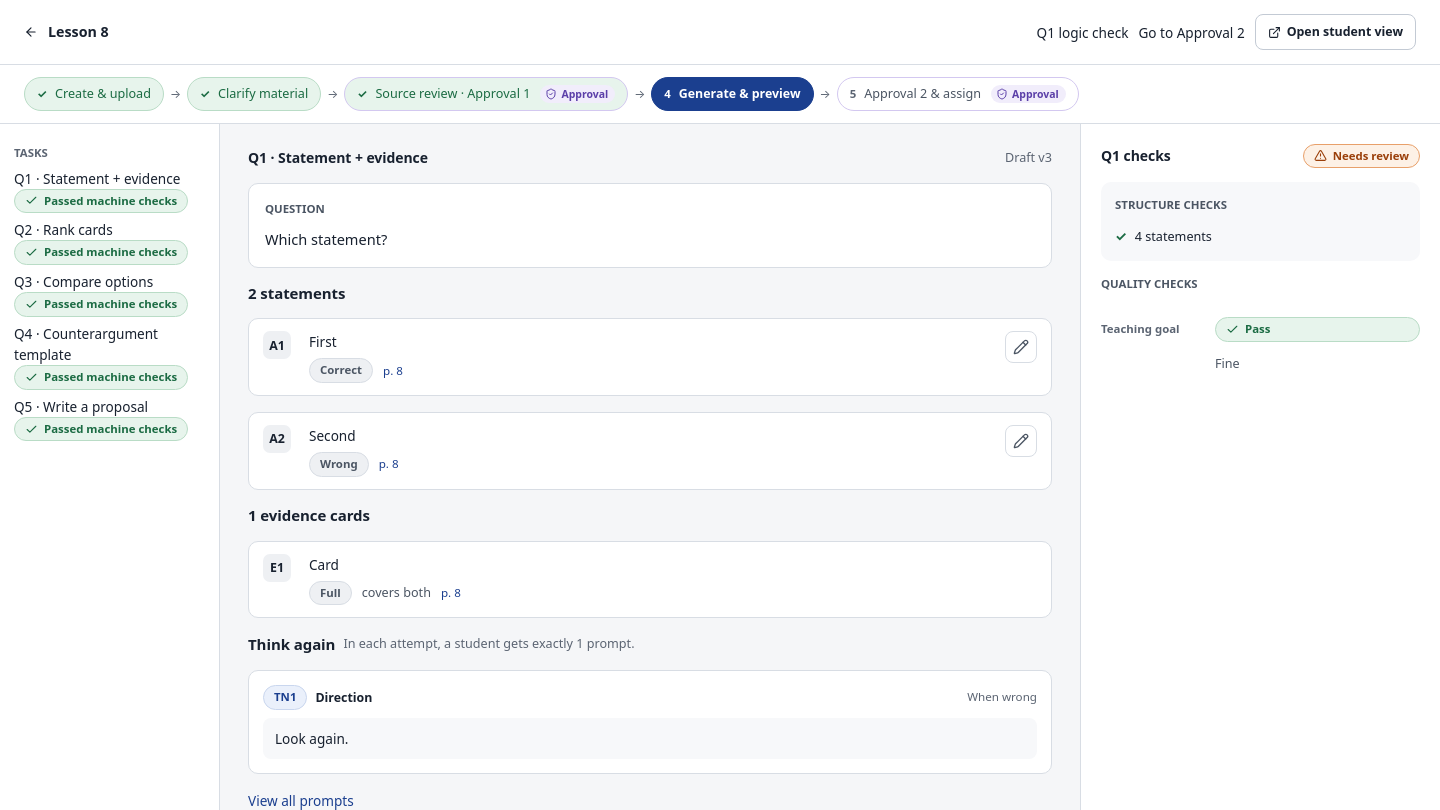
it: T7, T9 and T11 › a new fact in a quick edit shows the three actions
Click the button named "Quick edit A1" at x=1021, y=347, box [1005,331,1037,363]
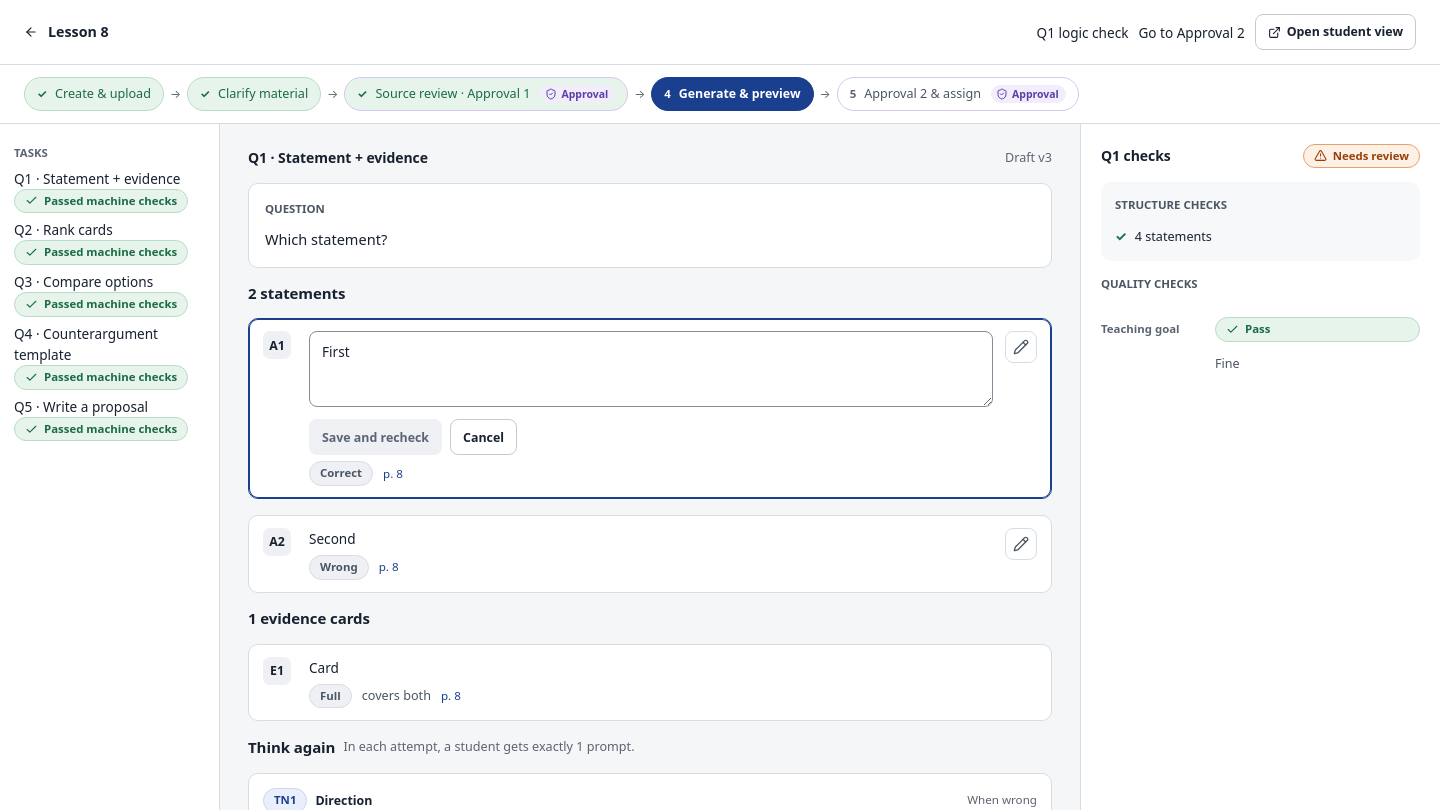
Replace the text in the text box named "Quick edit A1" with "Fell by 5%" at x=651, y=369, box [309,331,993,407]
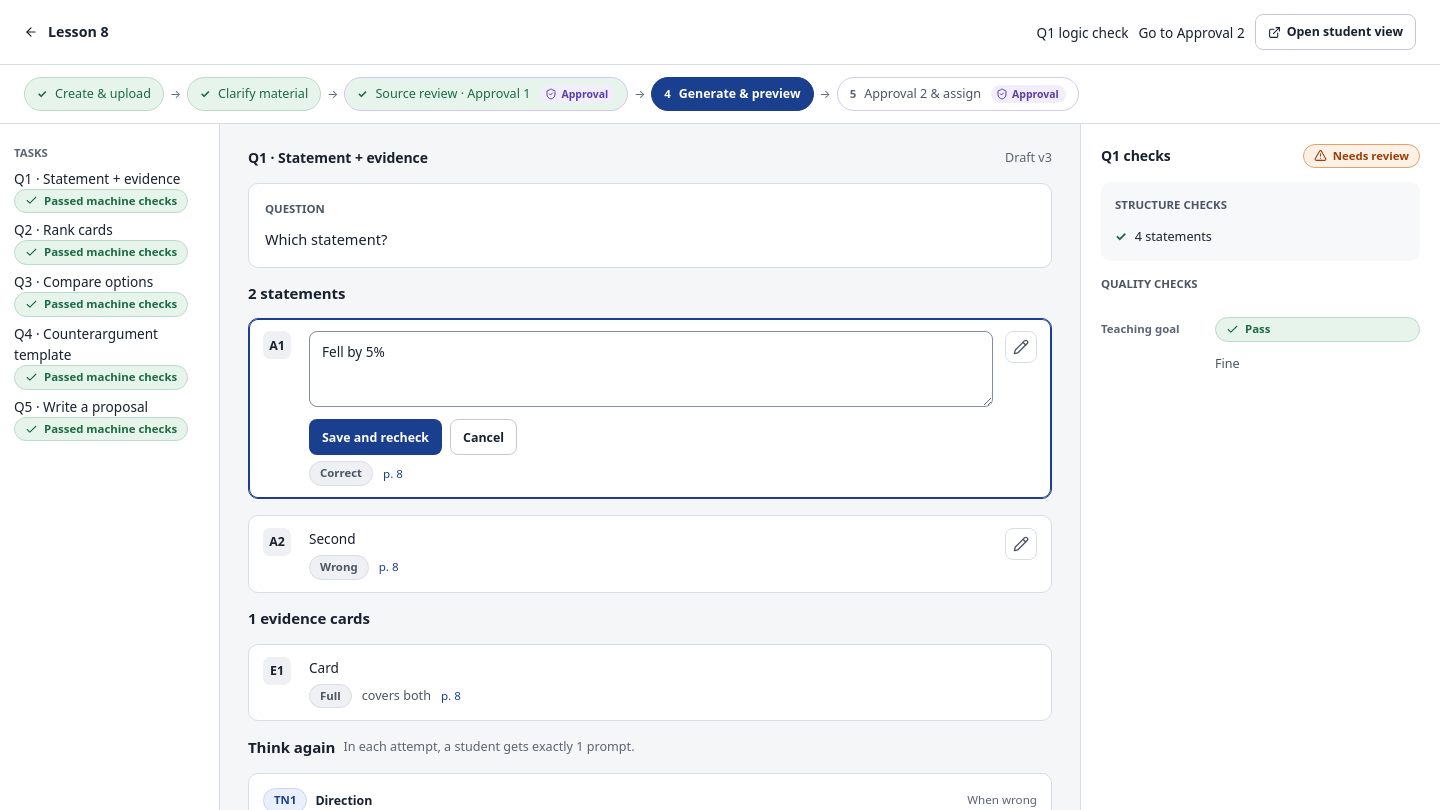
Click the button "Save and recheck" at x=376, y=437, box [309,419,442,455]
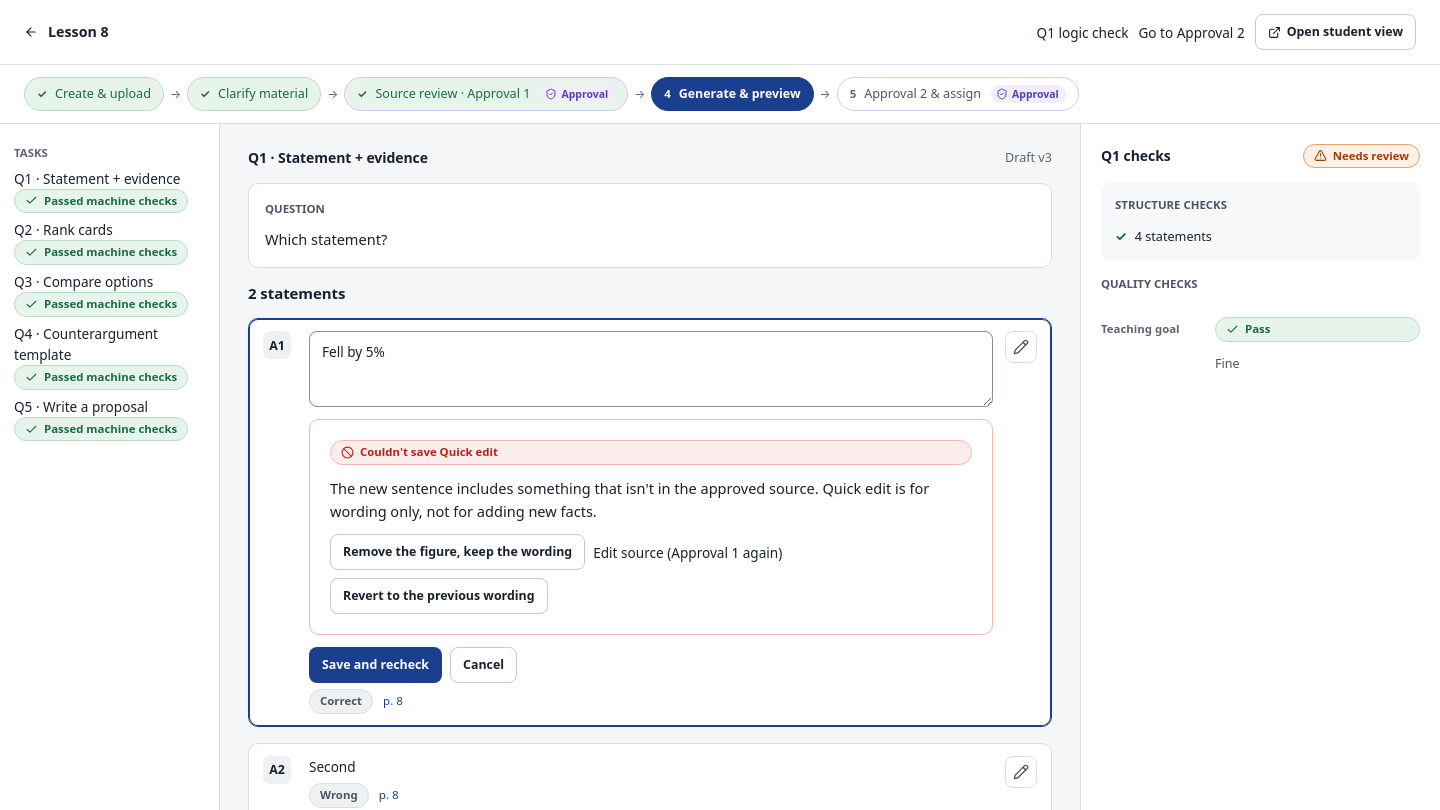
Expected: the text "Couldn't save Quick edit" is shown, [330,440,972,465]
Expected: the link "Edit source (Approval 1 again)" is shown, [593,542,782,562]
Expected: the button "Revert to the previous wording" is shown, [330,578,548,614]
